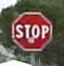stop: (10, 10, 53, 51)
